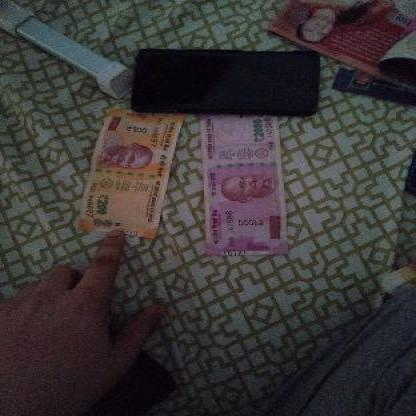New2000Front: (204, 112, 287, 256)
New200Front: (85, 107, 167, 237)
